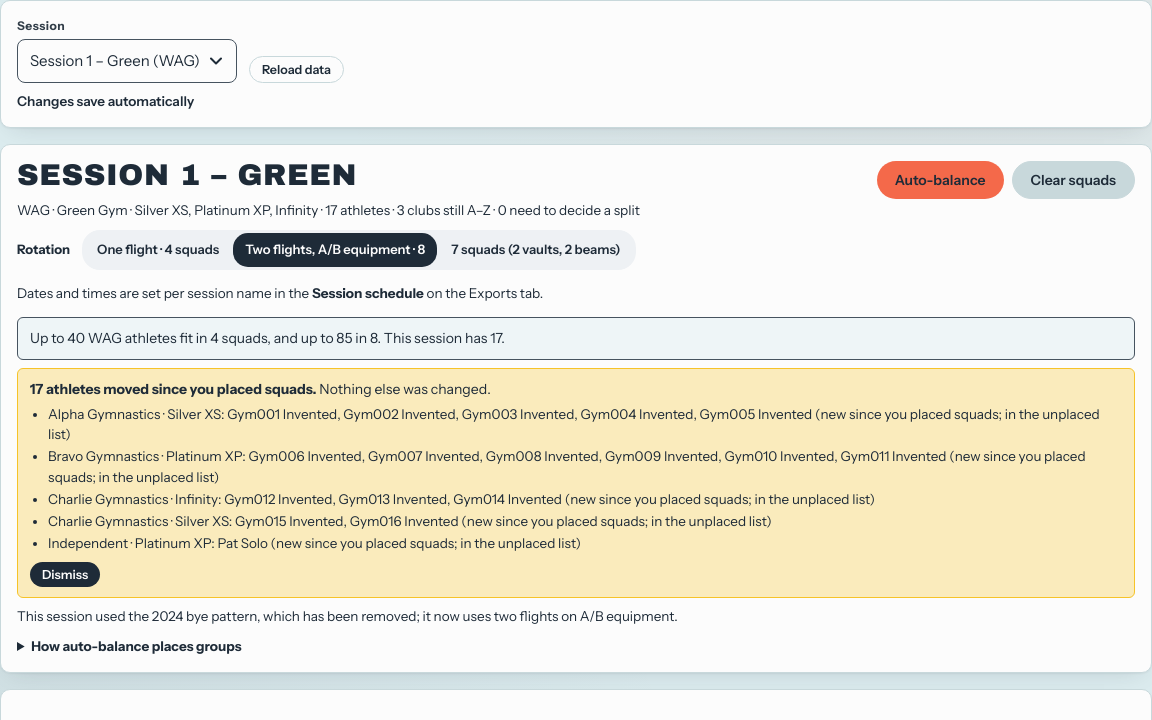
Scenario: Squads screen › a saved plan with the removed byes pattern opens as two flights on A/B equipment with a one-time notice
Expected: the heading "Session 1 – Green" is shown, [17,159,357,191]
Expected: the text "This session used the 2024 bye pattern, which has been removed; it now uses two flights on A/B equipment." is shown, [17,608,678,624]
Click the button "Auto-balance" at (940, 180), box [877,161,1004,199]
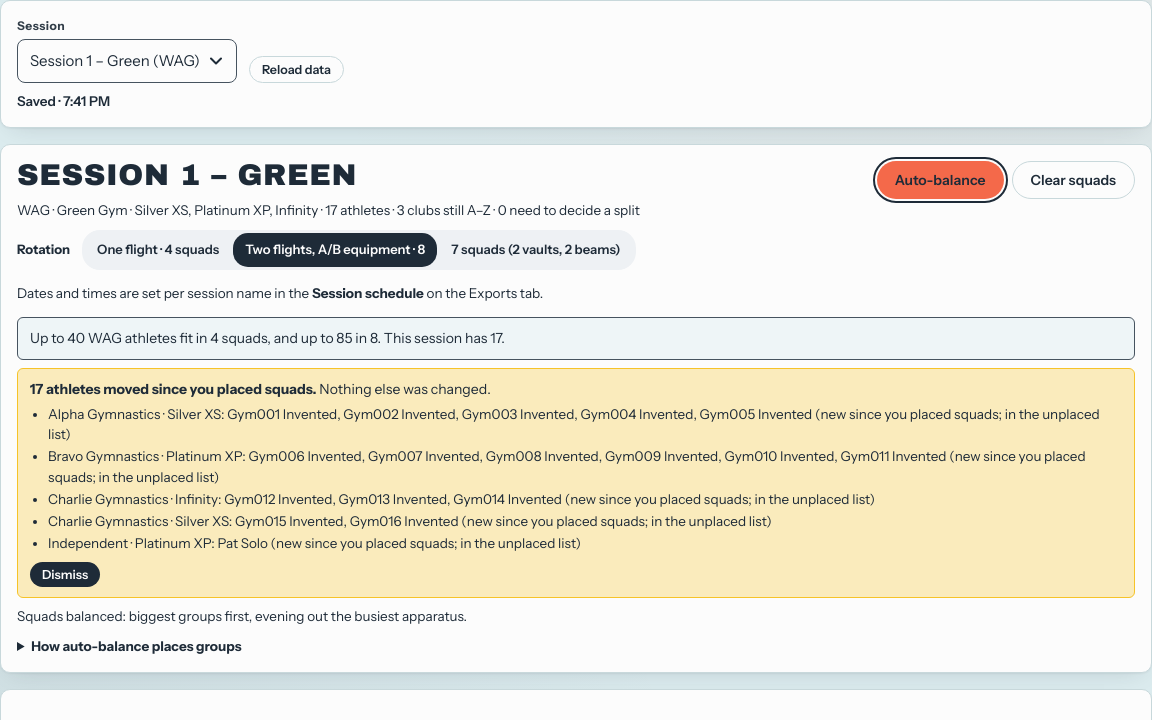
Now the text "This session used the 2024 bye pattern, which has been removed; it now uses two flights on A/B equipment." is gone
